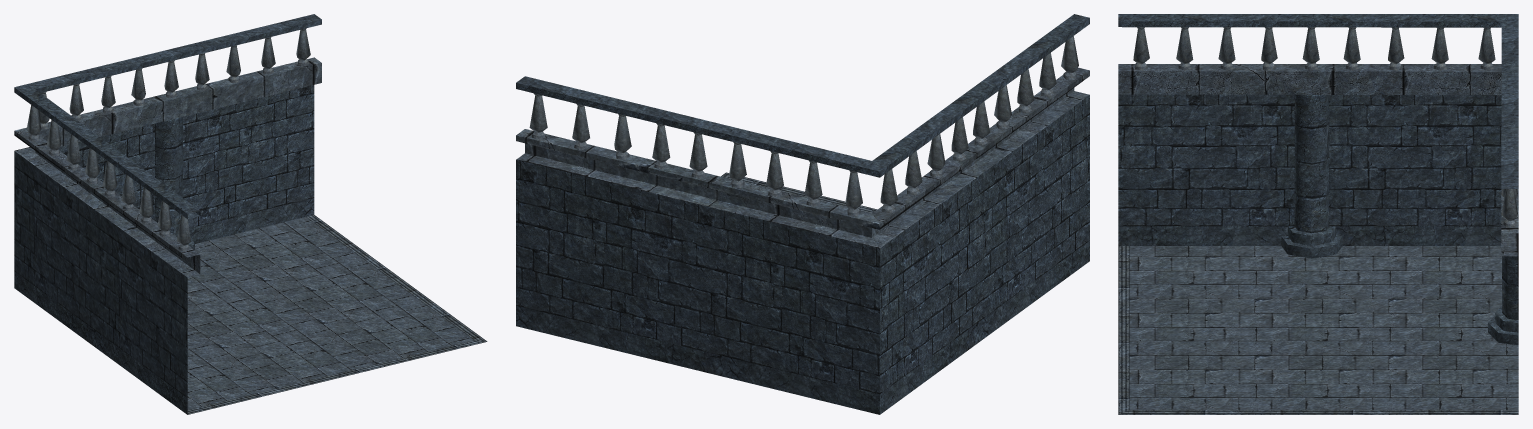
File: DownFloor_corner.FBX
The picture shows the model from 3 angles, left to right: view 1: azimuth 30°, elevation 25°; view 2: azimuth 150°, elevation 25°; view 3: azimuth 270°, elevation 25°; orthographic projection. The views are drawn at different scales.
Parts seen in each view (by area): view 1: DownFloor_corner; view 2: DownFloor_corner; view 3: DownFloor_corner.
Part boxes in pixels (x1,y1,x2,y2): DownFloor_corner: (14, 14, 487, 414); DownFloor_corner: (516, 14, 1089, 414); DownFloor_corner: (1118, 14, 1518, 414).
Bounding box in the file's own units: 91.85 × 58.73 × 91.85.
